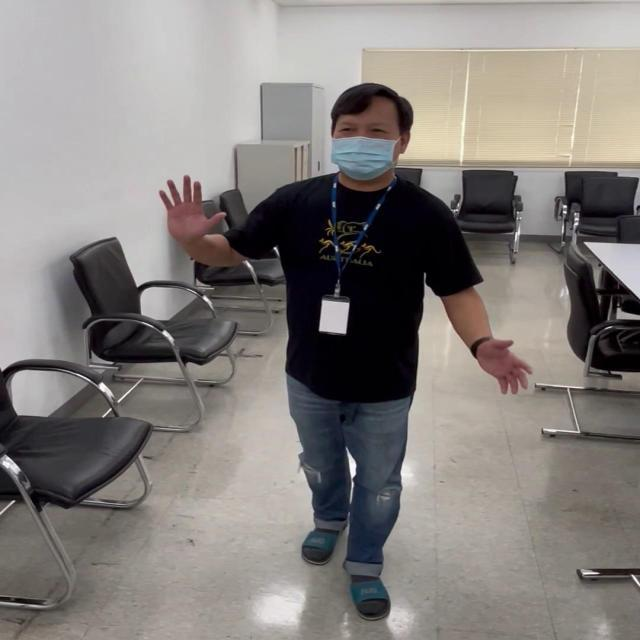bare_hand: (158, 172, 228, 248), (472, 336, 533, 398)
